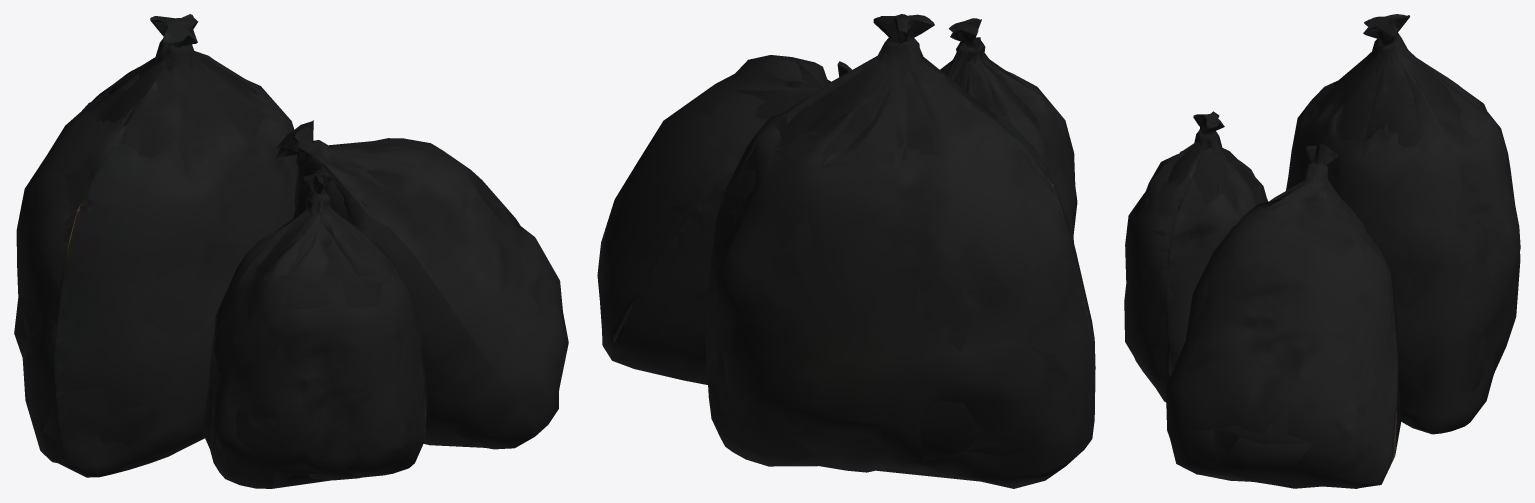
Rendered from SM_garbageBag_set_49c197.glb.
The picture shows the model from 3 angles, left to right: view 1: azimuth 30°, elevation 25°; view 2: azimuth 150°, elevation 25°; view 3: azimuth 270°, elevation 25°; orthographic projection. The views are drawn at different scales.
Bounding box in the file's own units: 1.3 × 1.08 × 1.05.
Materials: 1 (1 with a texture image).
